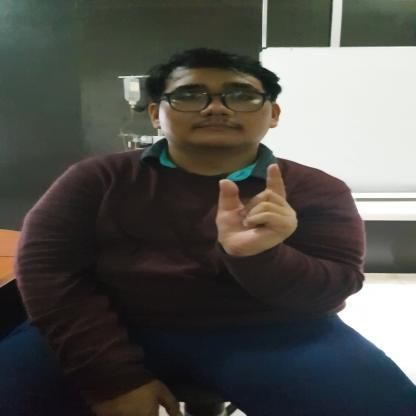U: (214, 162, 299, 257)
